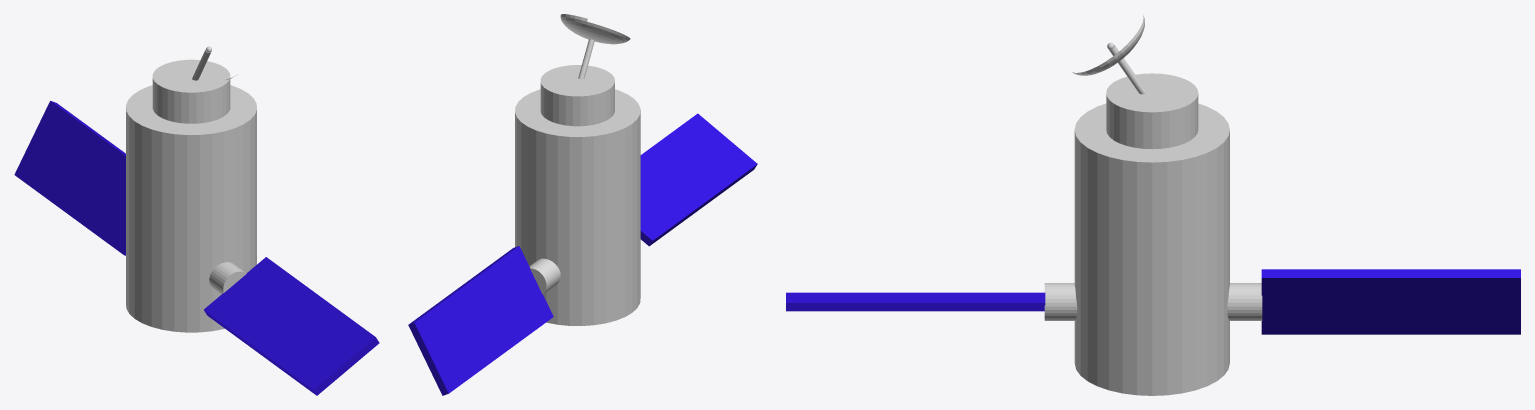
Rendered from Satellite.glb.
The picture shows the model from 3 angles, left to right: view 1: azimuth 30°, elevation 25°; view 2: azimuth 150°, elevation 25°; view 3: azimuth 270°, elevation 25°; orthographic projection. The views are drawn at different scales.
Visible parts, largest first — view 1: Cylinder, Cube, Cube.001, Cylinder.004, Cylinder.001; view 2: Cylinder, Cube.001, Cube, Cylinder.004, Sphere.001, Cylinder.002; view 3: Cylinder, Cube.001, Cylinder.004, Cube, Cylinder.002, Cylinder.001, Sphere.001.
Boxes of the visible parts, left/top/right/bottom form: Cylinder: left=126, top=85, right=256, bottom=332; Cube: left=204, top=257, right=379, bottom=395; Cube.001: left=14, top=101, right=125, bottom=255; Cylinder.004: left=152, top=59, right=230, bottom=123; Cylinder.001: left=209, top=262, right=246, bottom=294; Cylinder: left=515, top=89, right=640, bottom=325; Cube.001: left=408, top=246, right=553, bottom=395; Cube: left=640, top=113, right=757, bottom=246; Cylinder.004: left=540, top=65, right=614, bottom=126; Sphere.001: left=560, top=14, right=630, bottom=44; Cylinder.002: left=529, top=258, right=560, bottom=294; Cylinder: left=1074, top=103, right=1229, bottom=395; Cube.001: left=1261, top=269, right=1520, bottom=334; Cylinder.004: left=1106, top=73, right=1198, bottom=149; Cube: left=786, top=292, right=1045, bottom=311; Cylinder.002: left=1227, top=283, right=1262, bottom=320; Cylinder.001: left=1044, top=283, right=1077, bottom=320; Sphere.001: left=1072, top=15, right=1144, bottom=75.
Bounding box in the file's own units: 3.37 × 8.27 × 15.94.
